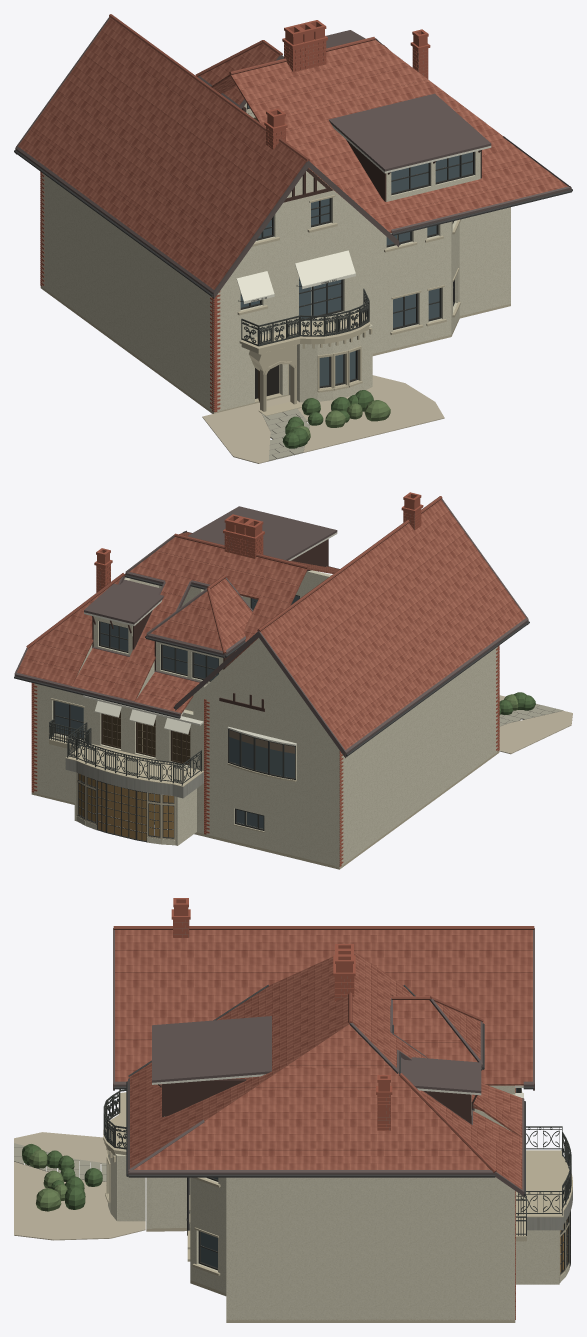
File: changning-wuyi-174-dongliang-garden-villa-lod.glb
3 renders of one model, top to bottom at view 1: azimuth 30°, elevation 25°; view 2: azimuth 150°, elevation 25°; view 3: azimuth 270°, elevation 25°, orthographic. The views are drawn at different scales.
Visible parts, largest first — view 1: 武夷路174号花园住宅; view 2: 武夷路174号花园住宅; view 3: 武夷路174号花园住宅.
Part boxes in pixels (<box>): 武夷路174号花园住宅: <box>14,14,572,463</box>; 武夷路174号花园住宅: <box>14,492,572,869</box>; 武夷路174号花园住宅: <box>14,898,572,1322</box>.
Bounding box in the file's own units: 17.21 × 11.9 × 20.6.
25 materials, 3 textured.
